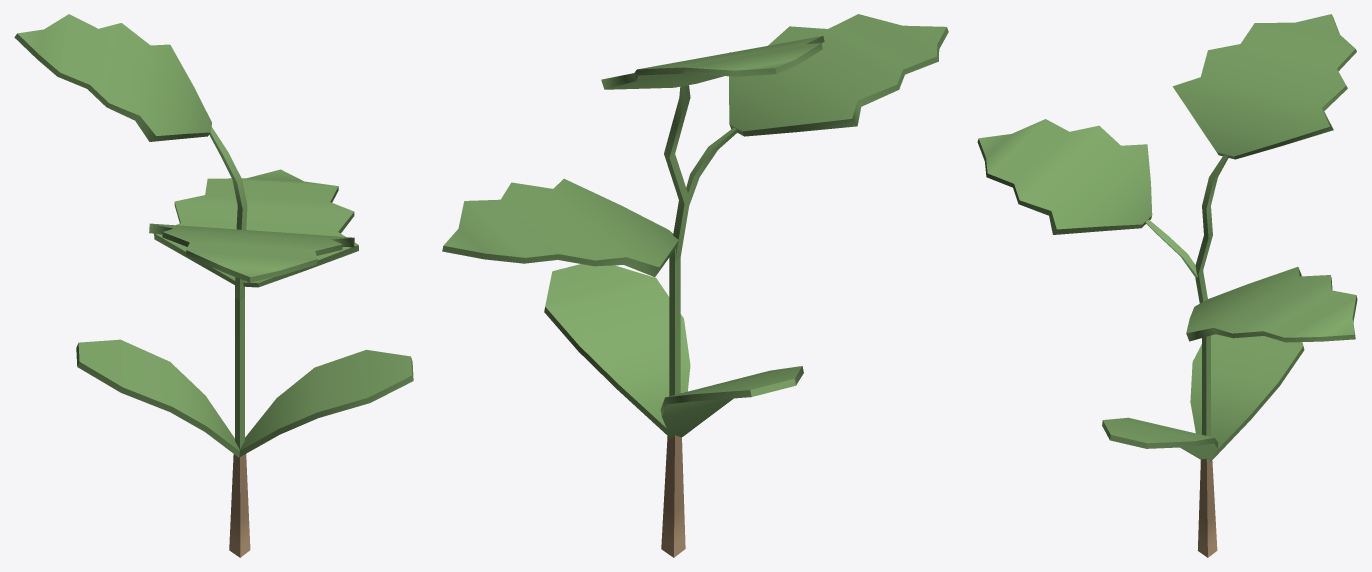
The model's file is plant2.fbx.
The picture shows the model from 3 angles, left to right: view 1: azimuth 30°, elevation 25°; view 2: azimuth 150°, elevation 25°; view 3: azimuth 270°, elevation 25°; orthographic projection. The views are drawn at different scales.
Parts seen in each view (by area): view 1: pCylinder52; view 2: pCylinder52; view 3: pCylinder52.
Boxes of the visible parts, bbox=[...] form: pCylinder52: bbox=[14, 14, 413, 557]; pCylinder52: bbox=[442, 14, 948, 557]; pCylinder52: bbox=[977, 14, 1357, 557].
Size of the model in its own units: 1.23 by 2 by 1.47.
1 material, 1 textured.
